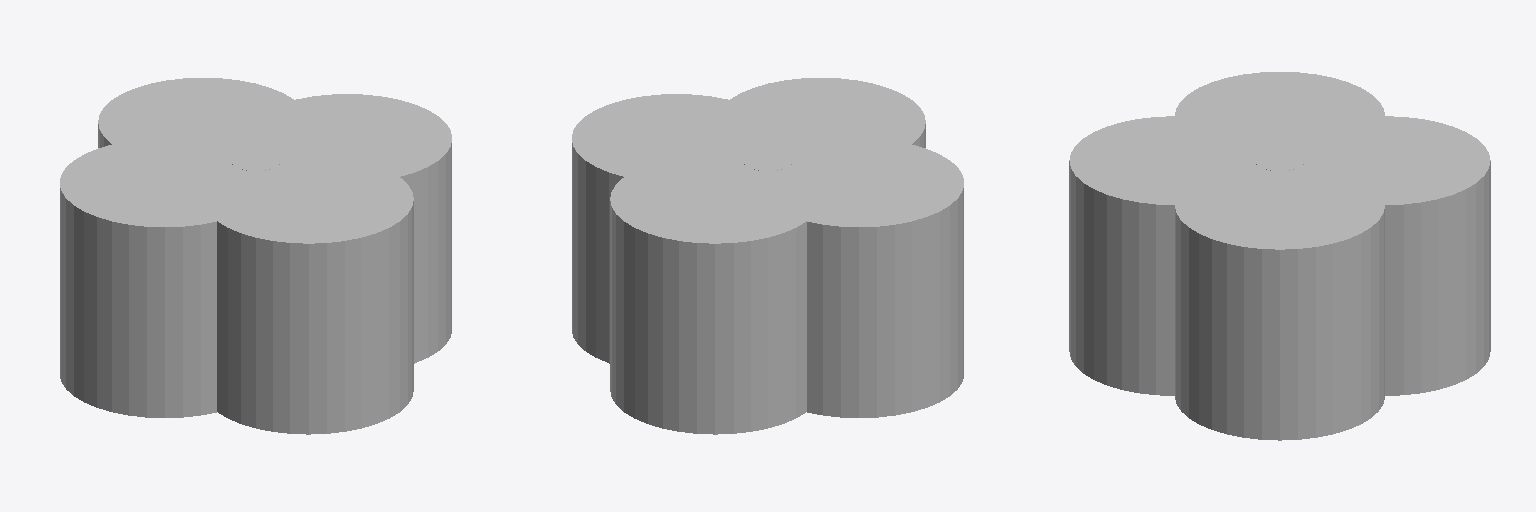
The model's file is huaban.obj.
The picture shows the model from 3 angles: view 1: azimuth 30°, elevation 25°; view 2: azimuth 150°, elevation 25°; view 3: azimuth 270°, elevation 25°; orthographic projection.
Parts seen in each view (by area): view 1: sigeyaunzhu, yanzhuxin; view 2: sigeyaunzhu, yanzhuxin; view 3: sigeyaunzhu, yanzhuxin.
Boxes of the visible parts, x1,y1,x2,y2 form: sigeyaunzhu: [60, 78, 451, 434]; yanzhuxin: [231, 150, 280, 170]; sigeyaunzhu: [572, 78, 963, 434]; yanzhuxin: [743, 150, 792, 170]; sigeyaunzhu: [1069, 72, 1490, 440]; yanzhuxin: [1255, 150, 1304, 170].
Size of the model in its own units: 10 by 5.01 by 10.